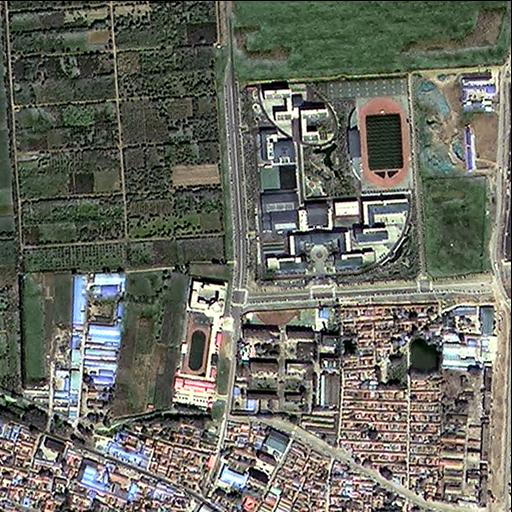school: (243, 73, 420, 285), (169, 274, 231, 413)
